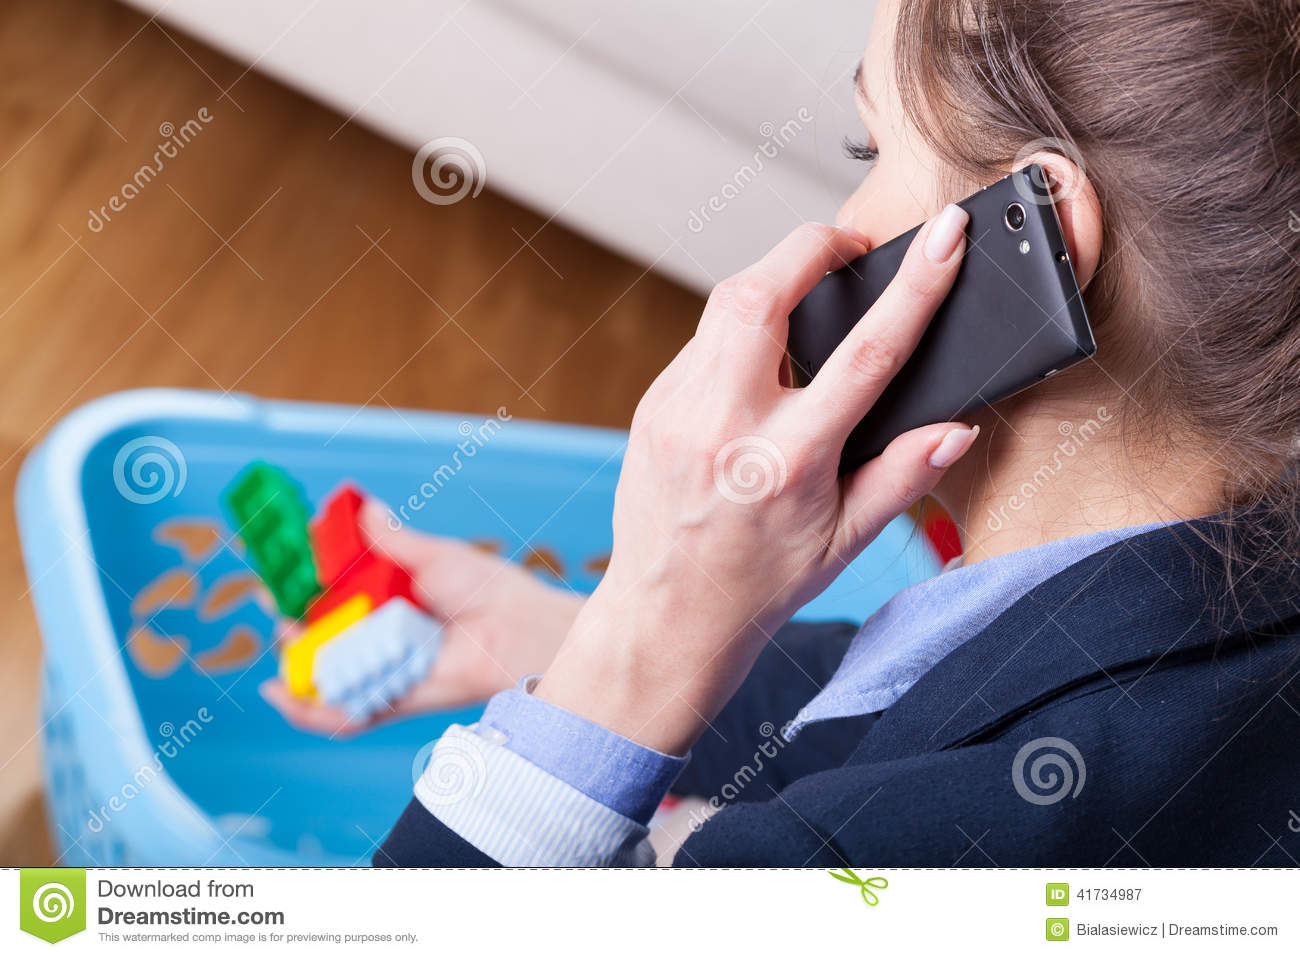phone: (783, 167, 1098, 460)
